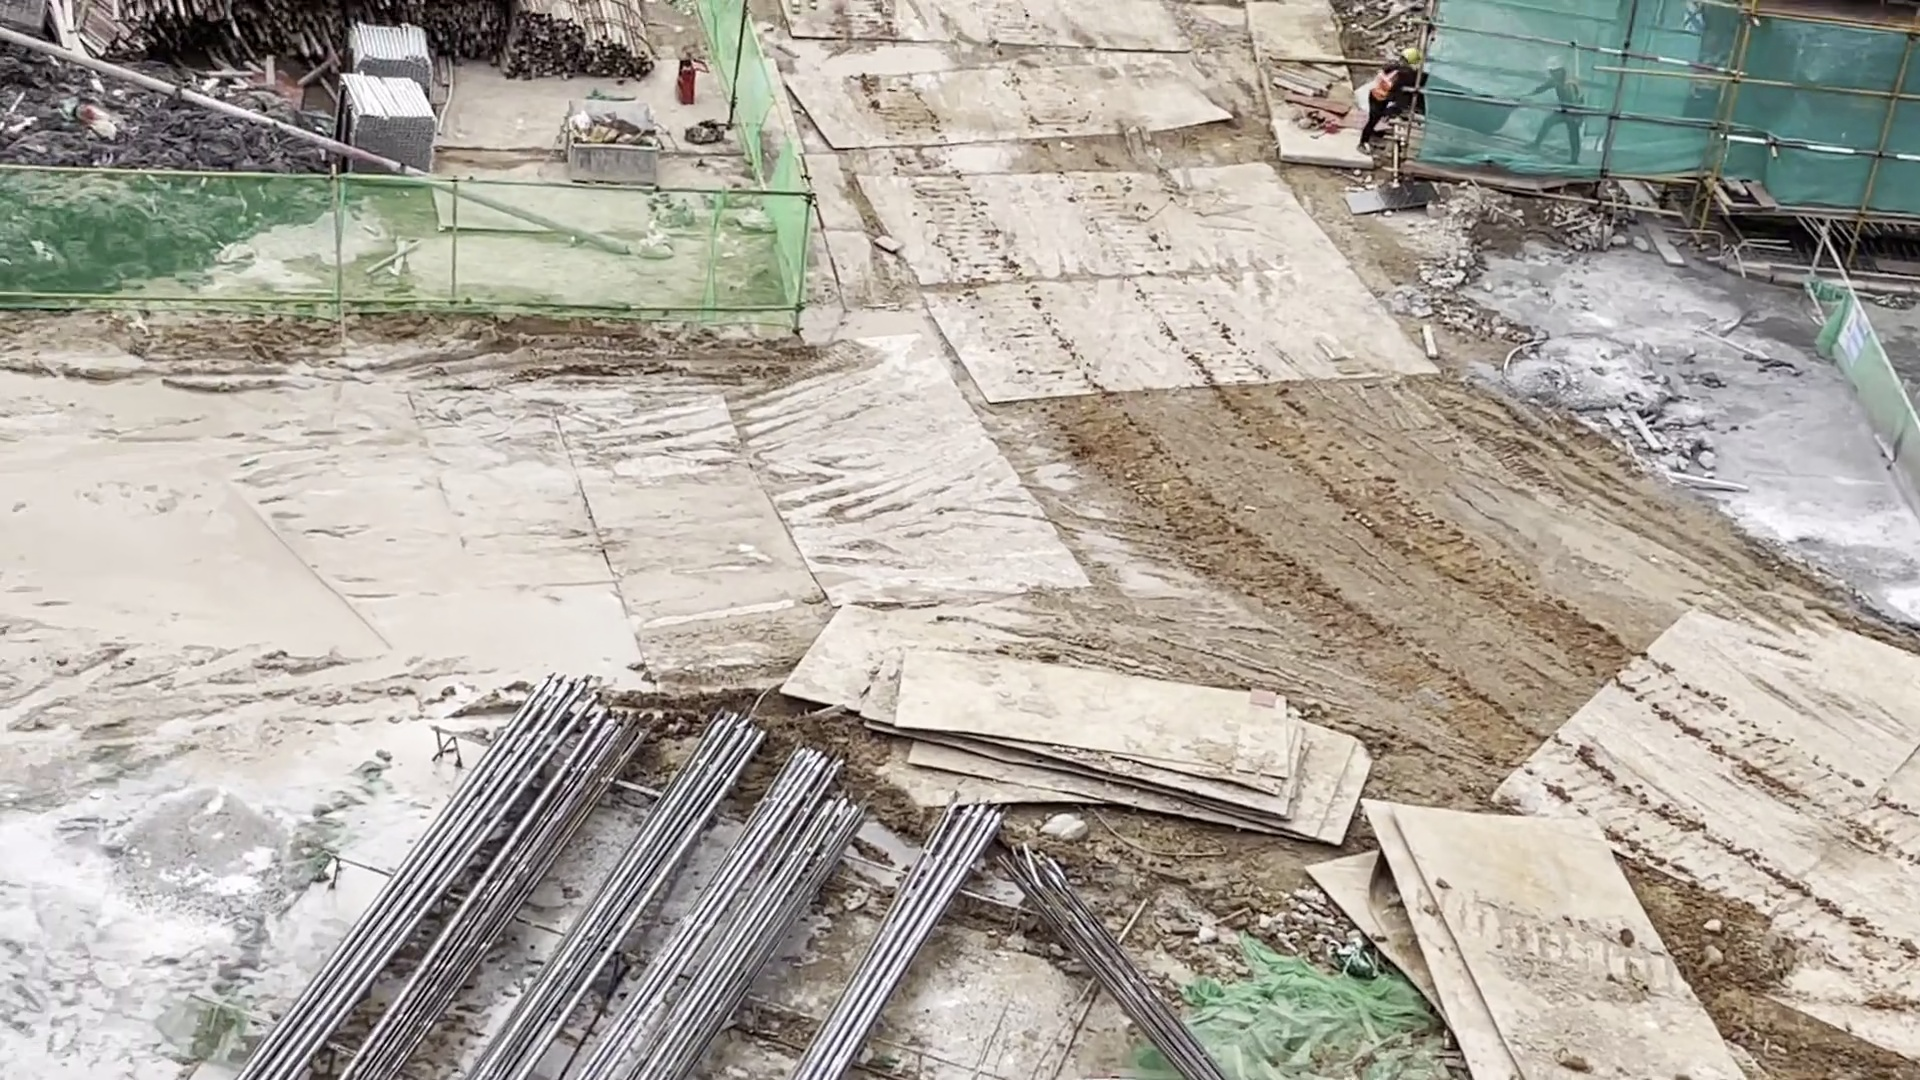helmet: (1401, 46, 1417, 64), (1545, 55, 1564, 73)
hopper: (562, 97, 669, 184)
person: (1512, 54, 1589, 161), (1369, 48, 1421, 160)
scaffold: (341, 20, 441, 167)
slogan: (1833, 299, 1870, 365)
vest: (1558, 76, 1585, 118), (1371, 66, 1396, 103)
